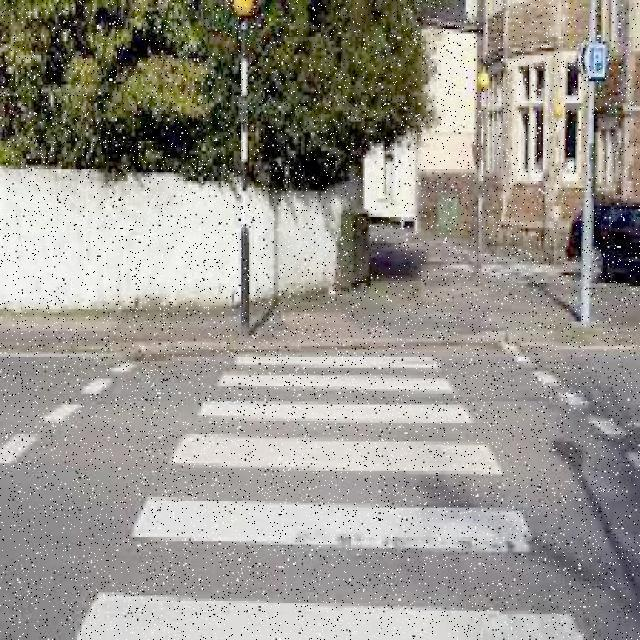crosswalk: (79, 352, 590, 640)
